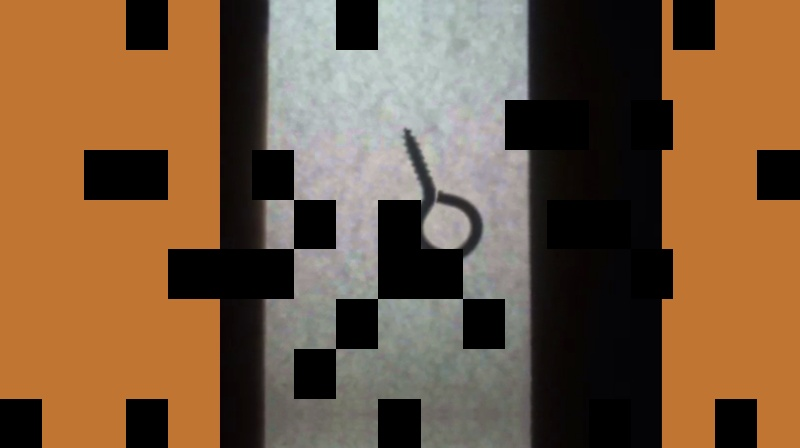O001: (398, 124, 486, 265)
